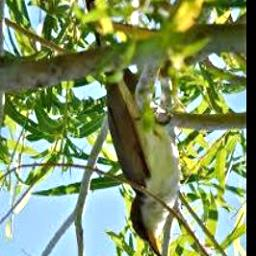Cuckoo: (82, 0, 180, 256)
